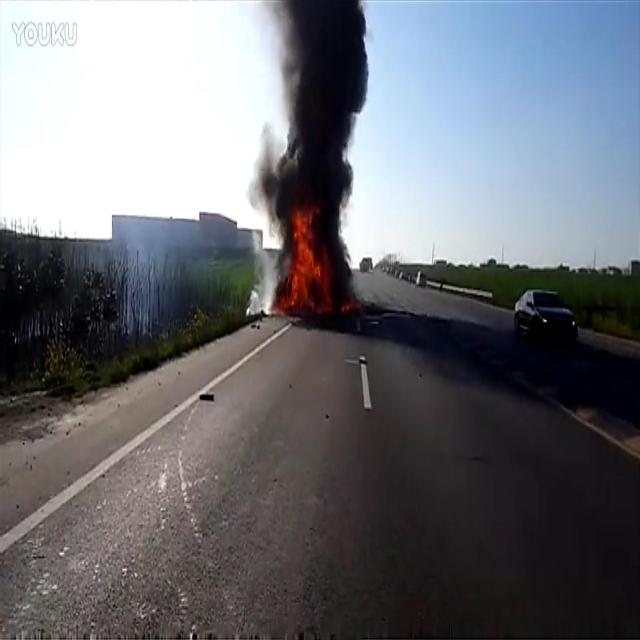fire: (275, 213, 357, 317)
smoke: (246, 1, 370, 212)
